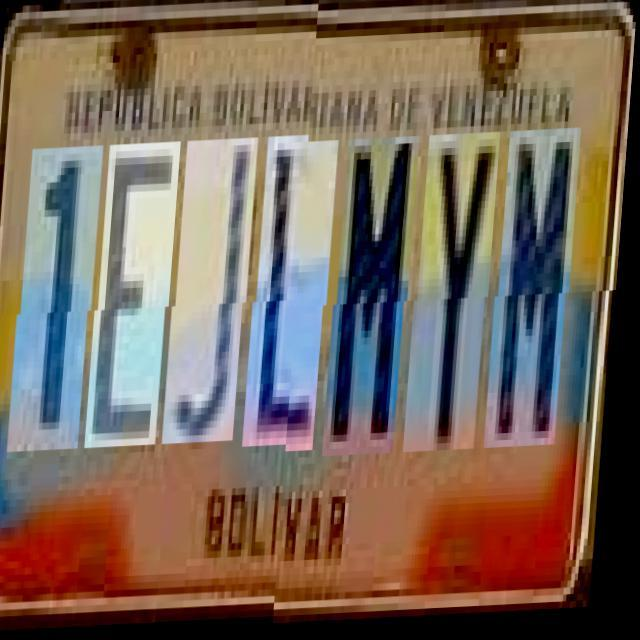1: (17, 153, 105, 460)
E: (94, 150, 182, 456)
J: (172, 147, 260, 453)
L: (252, 144, 342, 456)
M: (494, 134, 584, 453), (333, 141, 422, 460)
Y: (413, 138, 502, 456)
